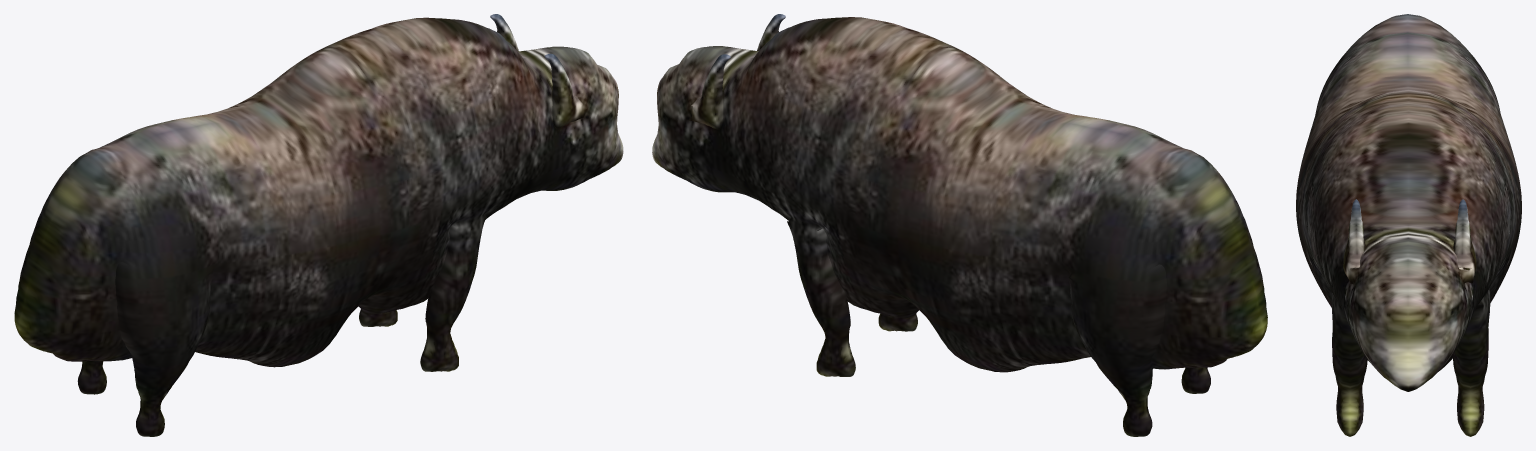
File: yak.glb
The picture shows the model from 3 angles, left to right: view 1: azimuth 30°, elevation 25°; view 2: azimuth 150°, elevation 25°; view 3: azimuth 270°, elevation 25°; orthographic projection. The views are drawn at different scales.
Parts seen in each view (by area): view 1: Object_4; view 2: Object_4; view 3: Object_4.
Part boxes in pixels (<box>): Object_4: <box>14,14,623,436</box>; Object_4: <box>652,14,1267,436</box>; Object_4: <box>1296,14,1521,436</box>.
Bounding box in the file's own units: 8.85 × 4.54 × 2.93.
Materials: 1 (1 with a texture image).
